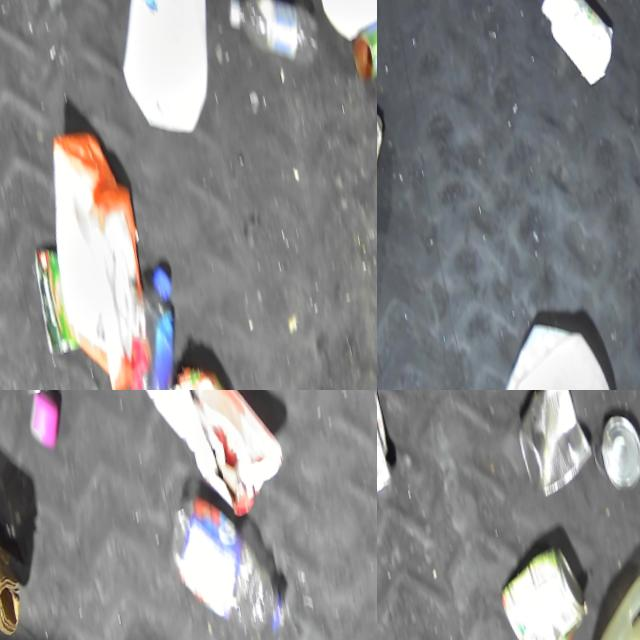can: (504, 390, 603, 518), (493, 543, 601, 640), (594, 416, 640, 508), (377, 390, 401, 508), (345, 16, 377, 97)
milk_jug: (90, 0, 234, 161), (470, 309, 636, 390), (273, 0, 377, 67), (566, 561, 640, 640)
plastic_bottle: (164, 480, 294, 640), (222, 0, 328, 100), (118, 268, 196, 390), (158, 0, 295, 33)
